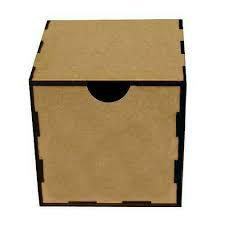cube: (29, 19, 186, 208)
